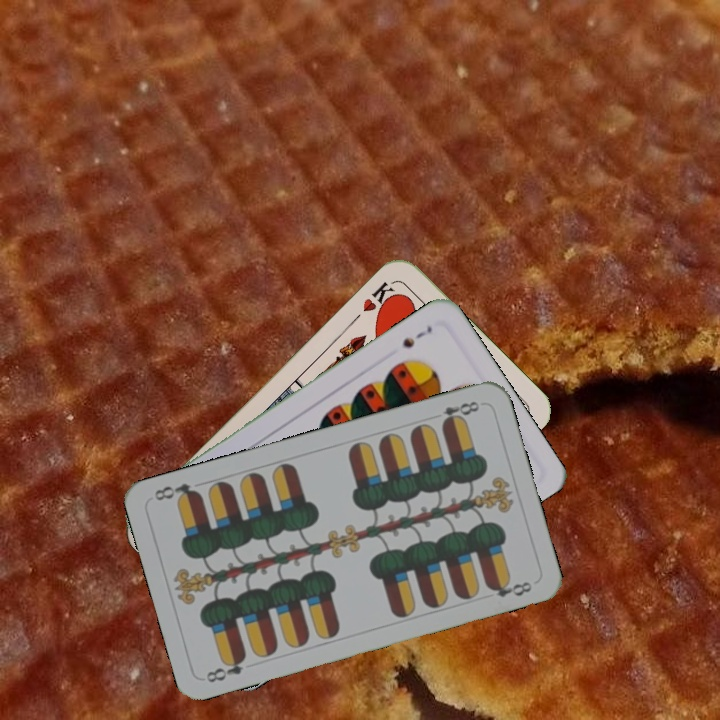E8: (202, 651, 249, 685), (437, 397, 482, 428)
HK: (358, 278, 402, 318)
S7: (398, 322, 435, 351)
